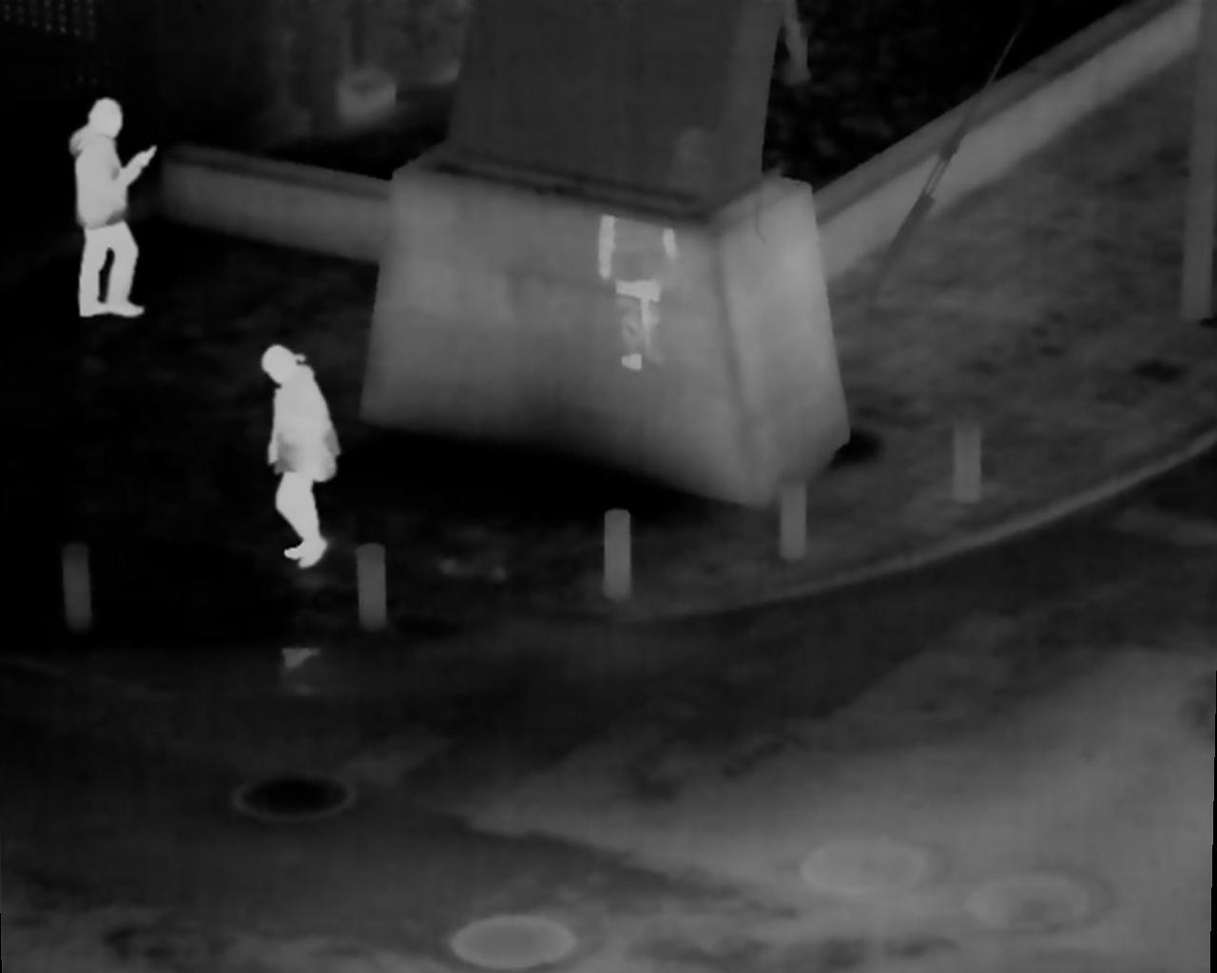person: (259, 342, 336, 571), (76, 94, 151, 316)
